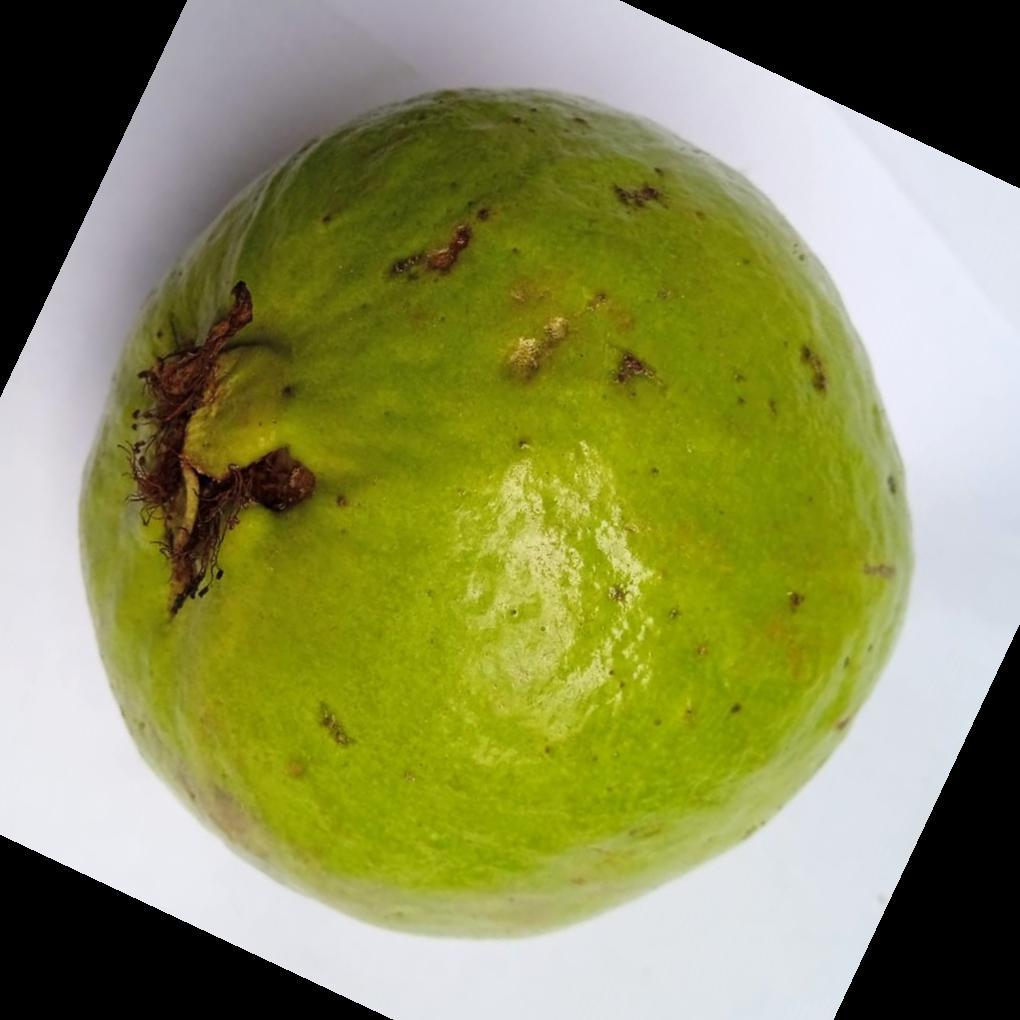FreshGuava: (74, 88, 917, 946)
